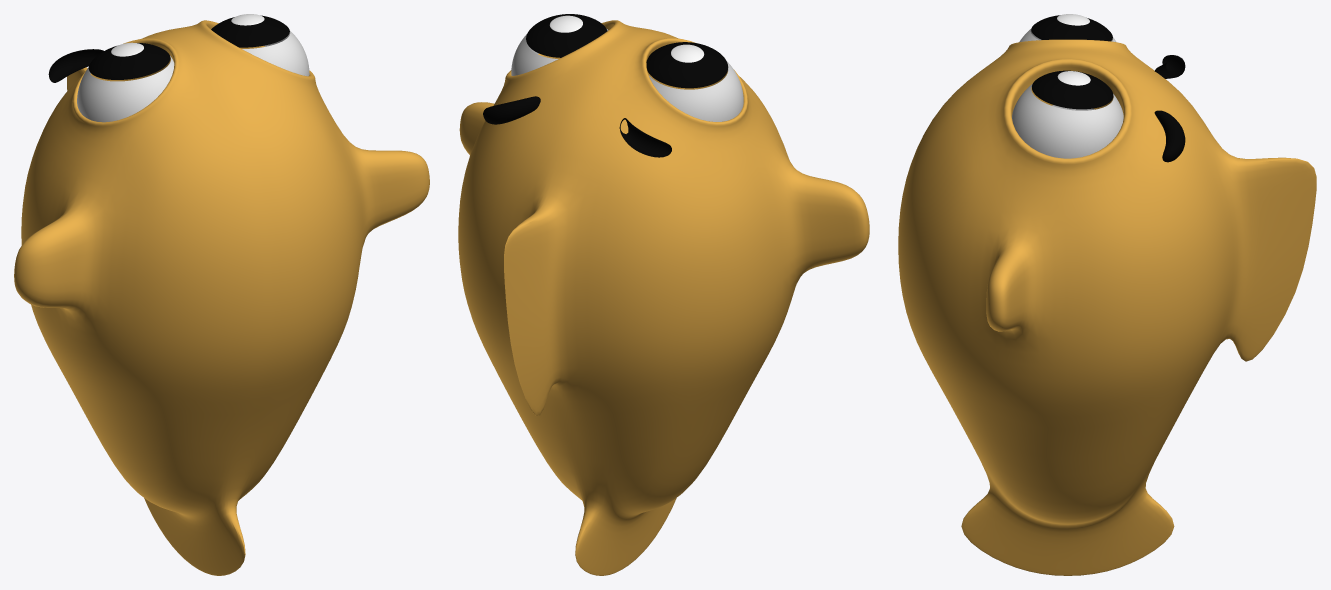
The model's file is fish.fbx.
3 renders of one model, left to right at view 1: azimuth 30°, elevation 25°; view 2: azimuth 150°, elevation 25°; view 3: azimuth 270°, elevation 25°, orthographic.
Parts seen in each view (by area): view 1: fish; view 2: fish; view 3: fish.
Boxes of the visible parts, <box> form: fish: <box>14,14,429,575</box>; fish: <box>458,14,869,575</box>; fish: <box>898,14,1316,575</box>.
Size of the model in its own units: 108 by 134 by 95.78.
